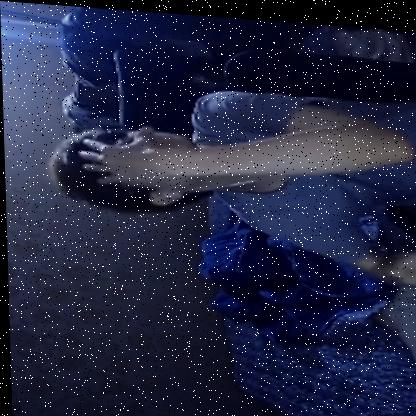streamer: (44, 73, 416, 281)
